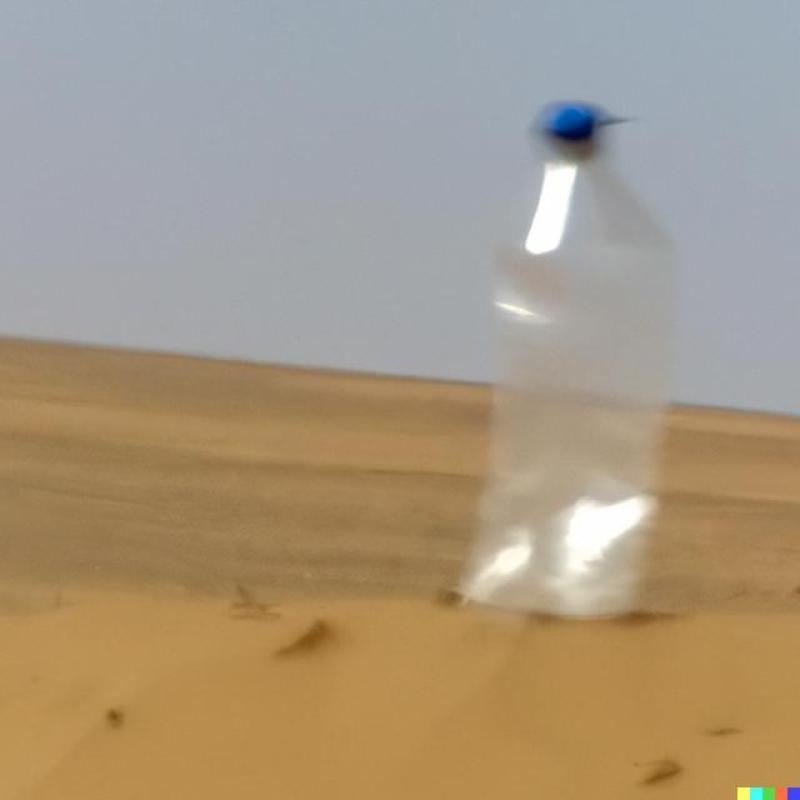botella: (456, 105, 682, 621)
